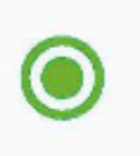RadioButton: (1, 1, 139, 155)
